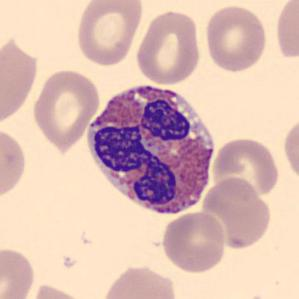Eosinophil: (80, 75, 221, 224)
Platelets: (246, 295, 268, 299)
RBC: (31, 66, 101, 152), (200, 175, 274, 252), (133, 8, 204, 87), (73, 0, 145, 68), (203, 3, 269, 74), (209, 136, 282, 199), (160, 210, 228, 274), (0, 32, 41, 128), (98, 262, 179, 299), (0, 124, 29, 203), (0, 245, 37, 298), (273, 0, 298, 62), (281, 113, 299, 184), (28, 281, 89, 299)
